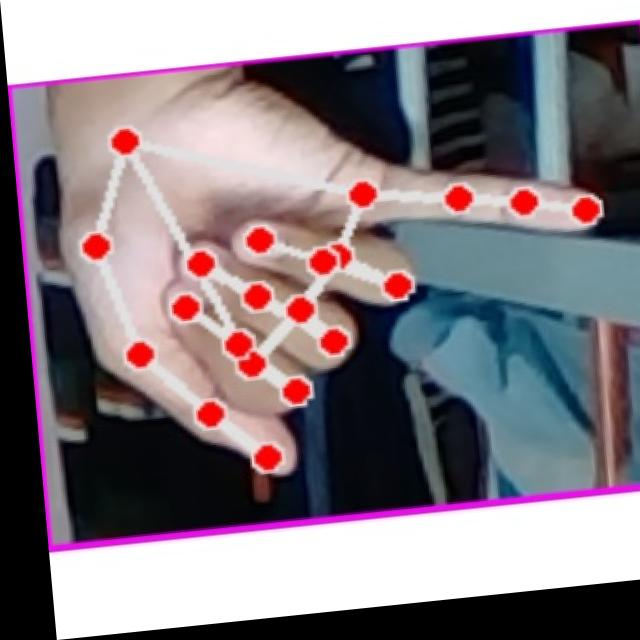J: (28, 54, 636, 516)
